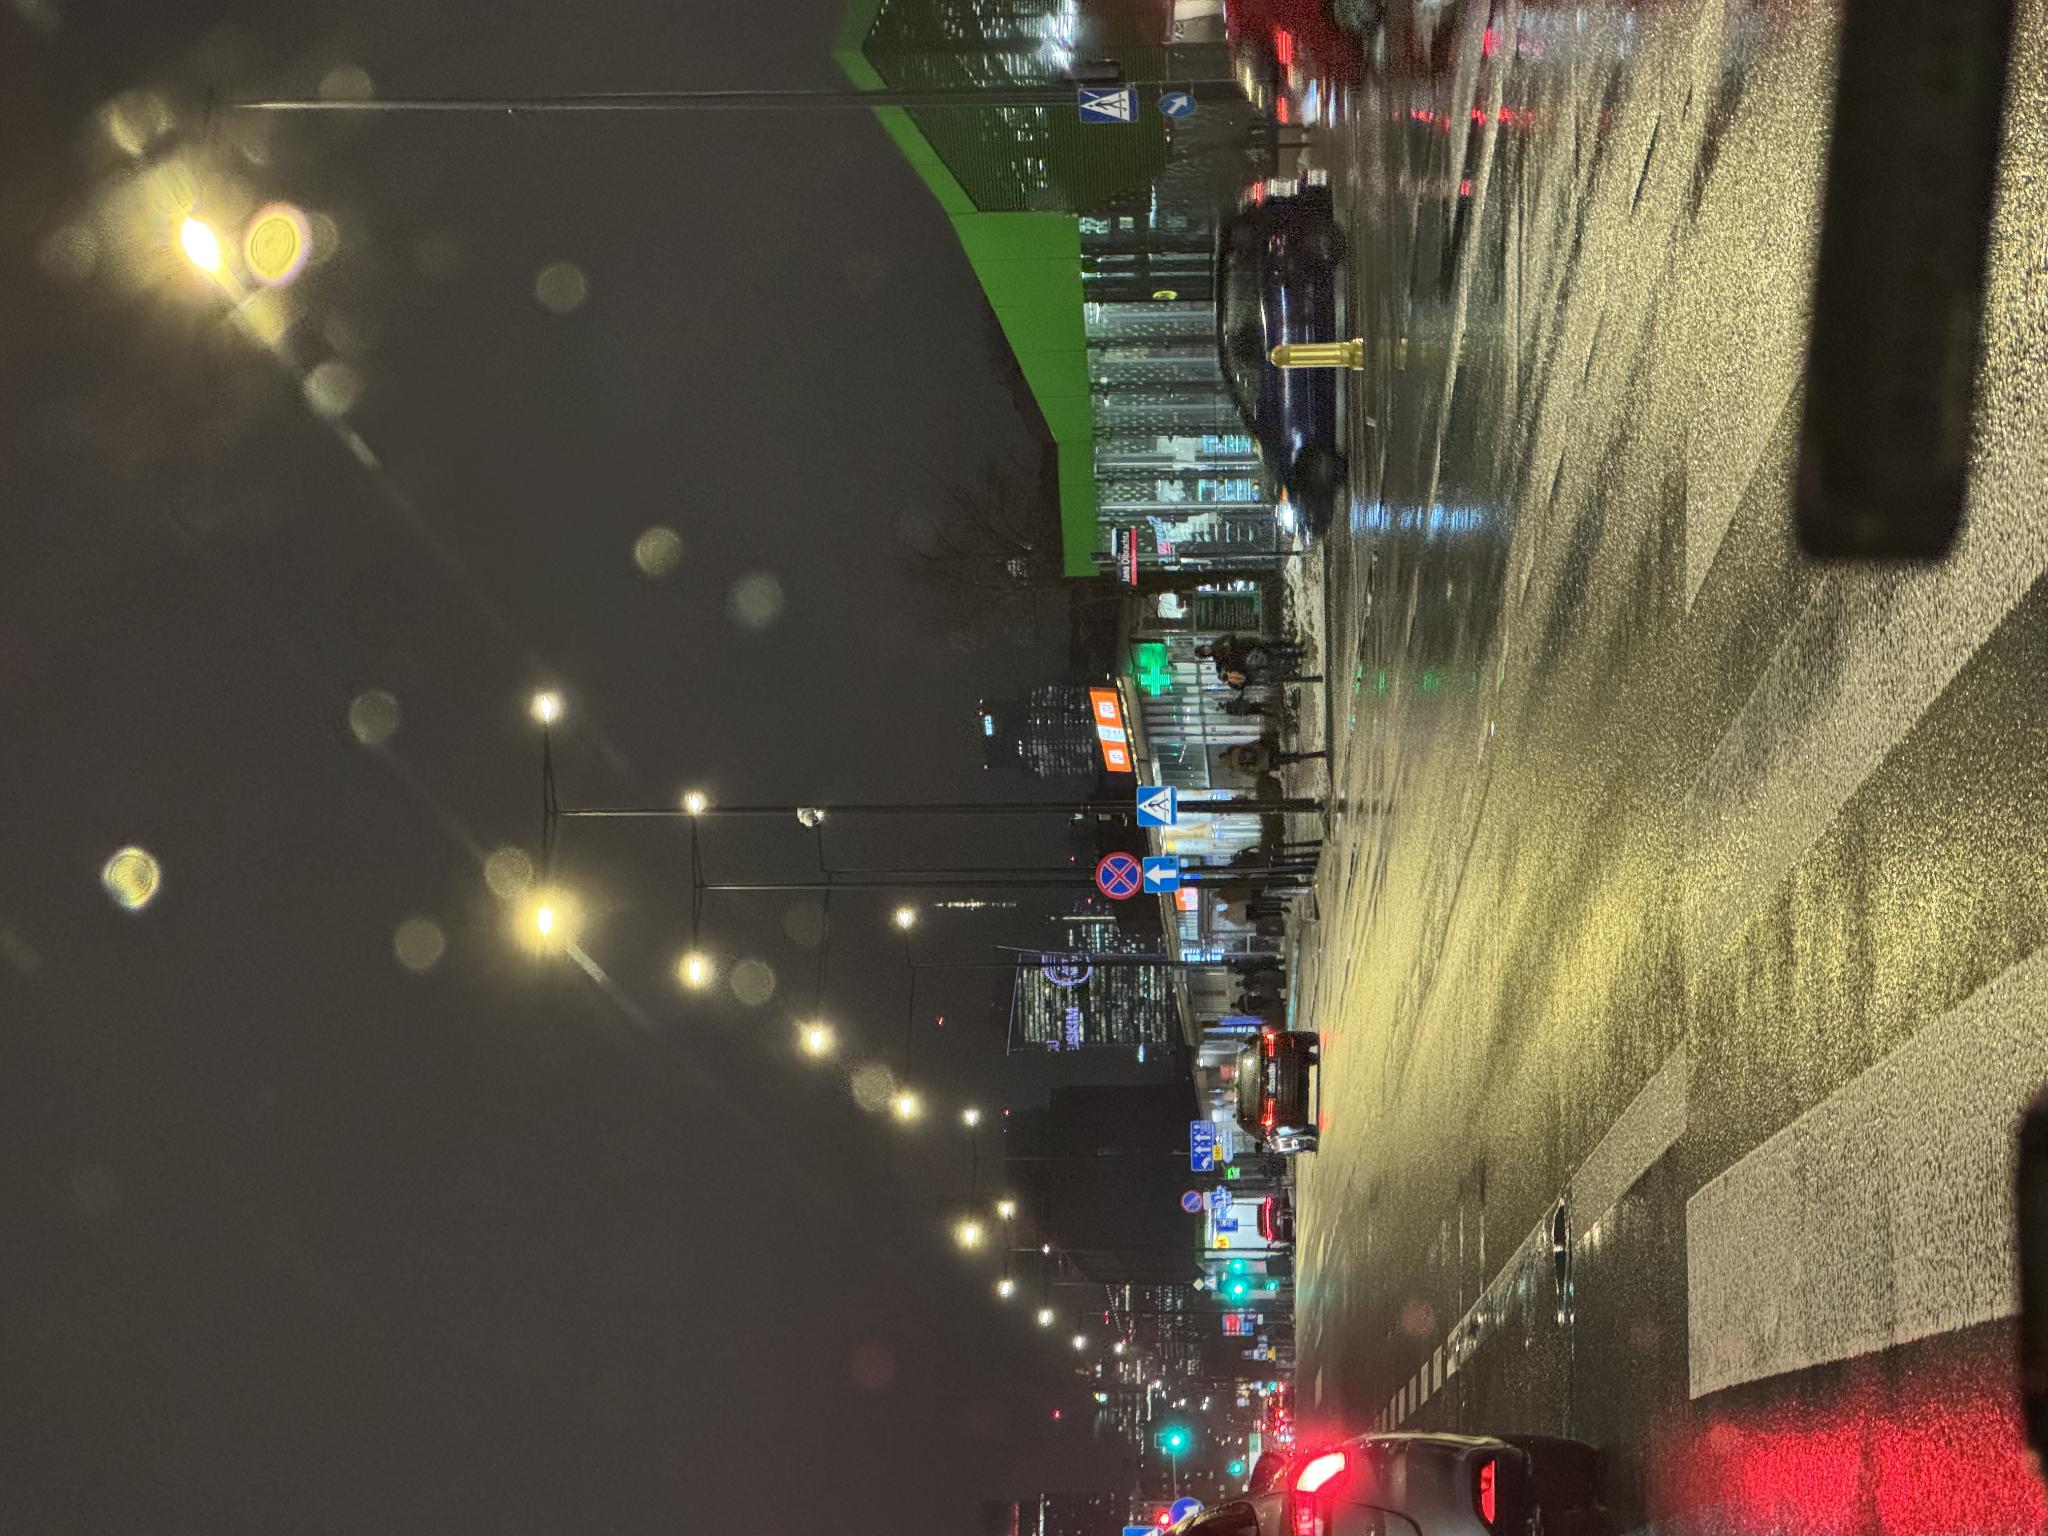direction-city: (373, 1221, 405, 1233)
information: (1413, 1079, 1450, 1139), (710, 1136, 750, 1176), (642, 1142, 679, 1179), (0, 1123, 10, 1163), (247, 1204, 261, 1218), (247, 1192, 258, 1205), (147, 1249, 153, 1255), (147, 1255, 153, 1262)
mandatory: (1419, 1157, 1445, 1199), (11, 1170, 39, 1207)
other: (364, 1191, 414, 1213), (177, 1258, 202, 1270), (303, 1217, 316, 1238), (329, 1212, 342, 1231), (376, 1213, 392, 1221), (326, 1204, 343, 1210), (177, 1241, 185, 1252), (176, 1273, 189, 1276), (177, 1254, 185, 1257), (179, 1268, 185, 1271)
prohibitory: (635, 1094, 684, 1144), (323, 1179, 345, 1204)
